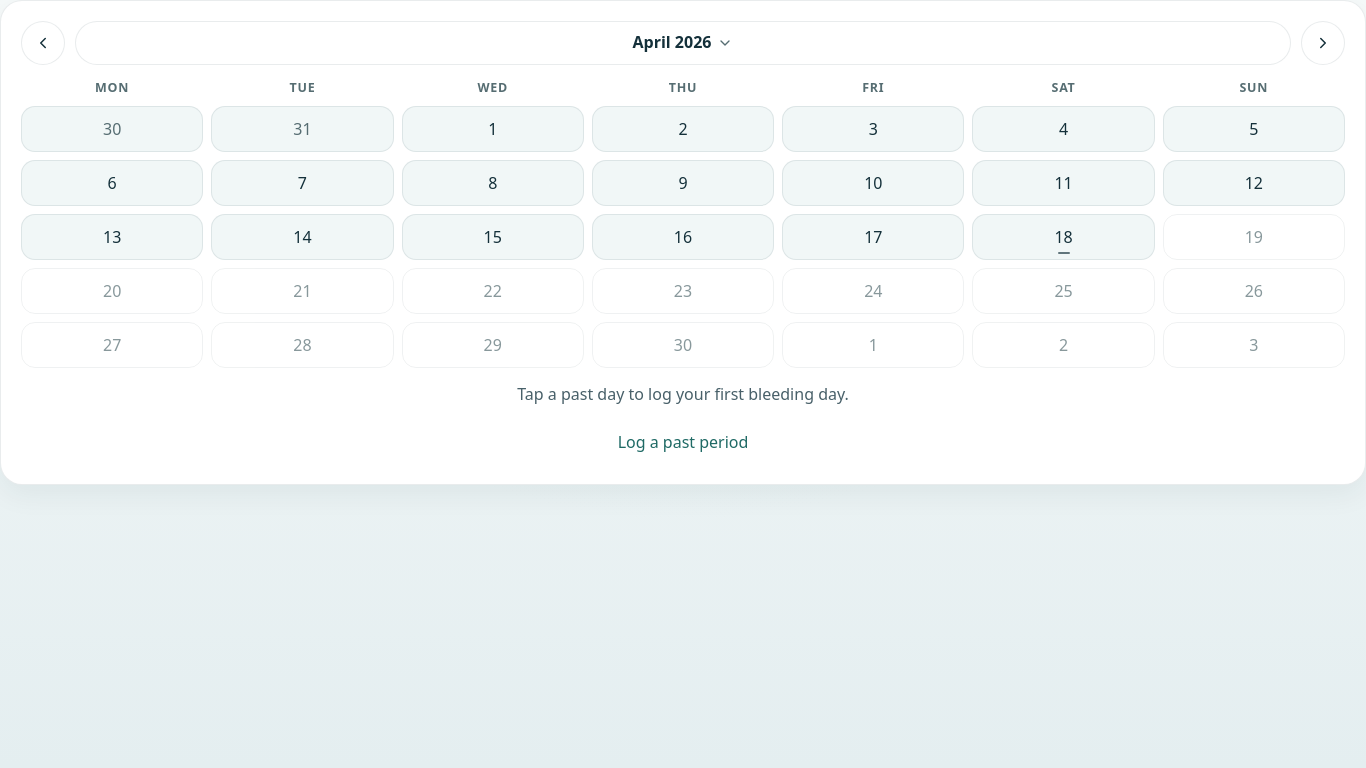
Scenario: CalendarScreen › changes month by swiping the calendar left and right
Press the mouse on the table named "calendar" at [683, 224], box x1=21 y1=79 x2=1345 y2=368
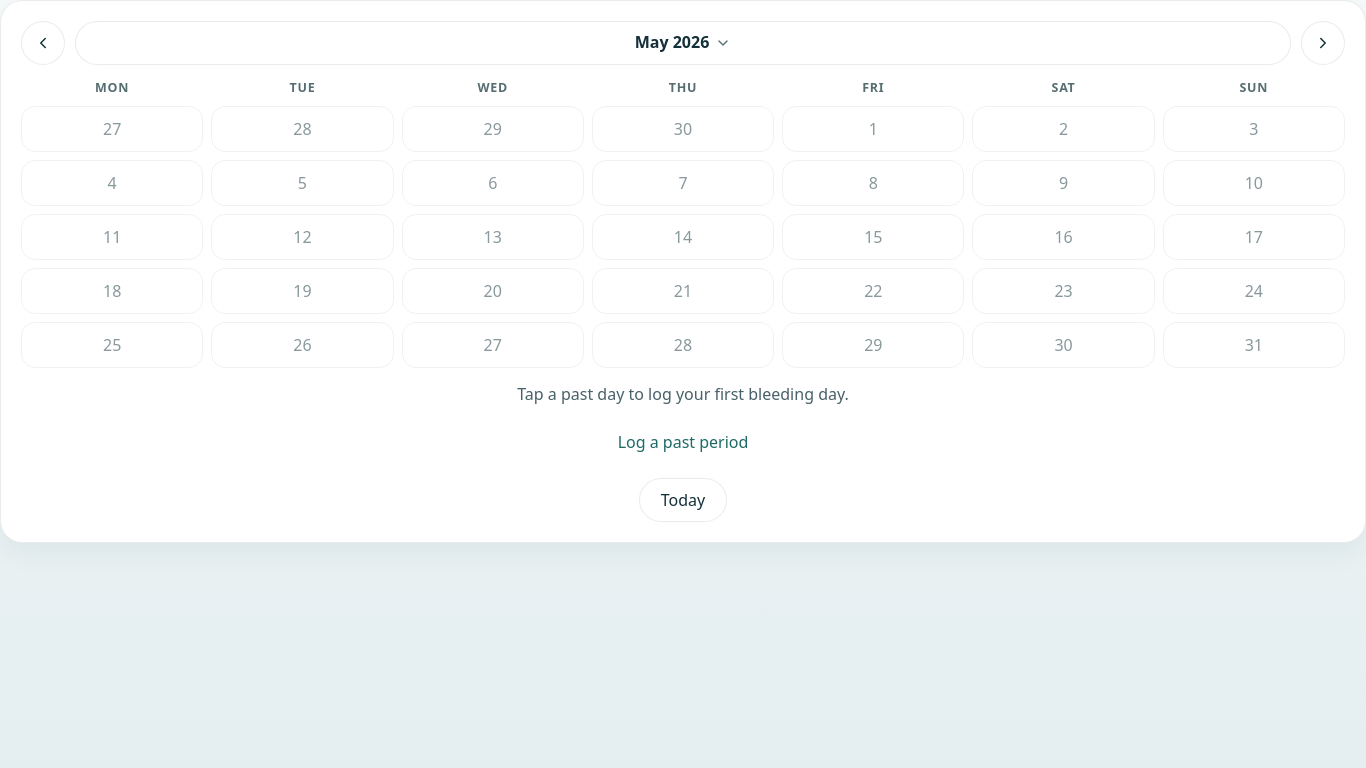
Expected: the button "May 2026" is shown, x1=75 y1=21 x2=1291 y2=65
Press the mouse on the table named "calendar" at [683, 224], box x1=21 y1=79 x2=1345 y2=368
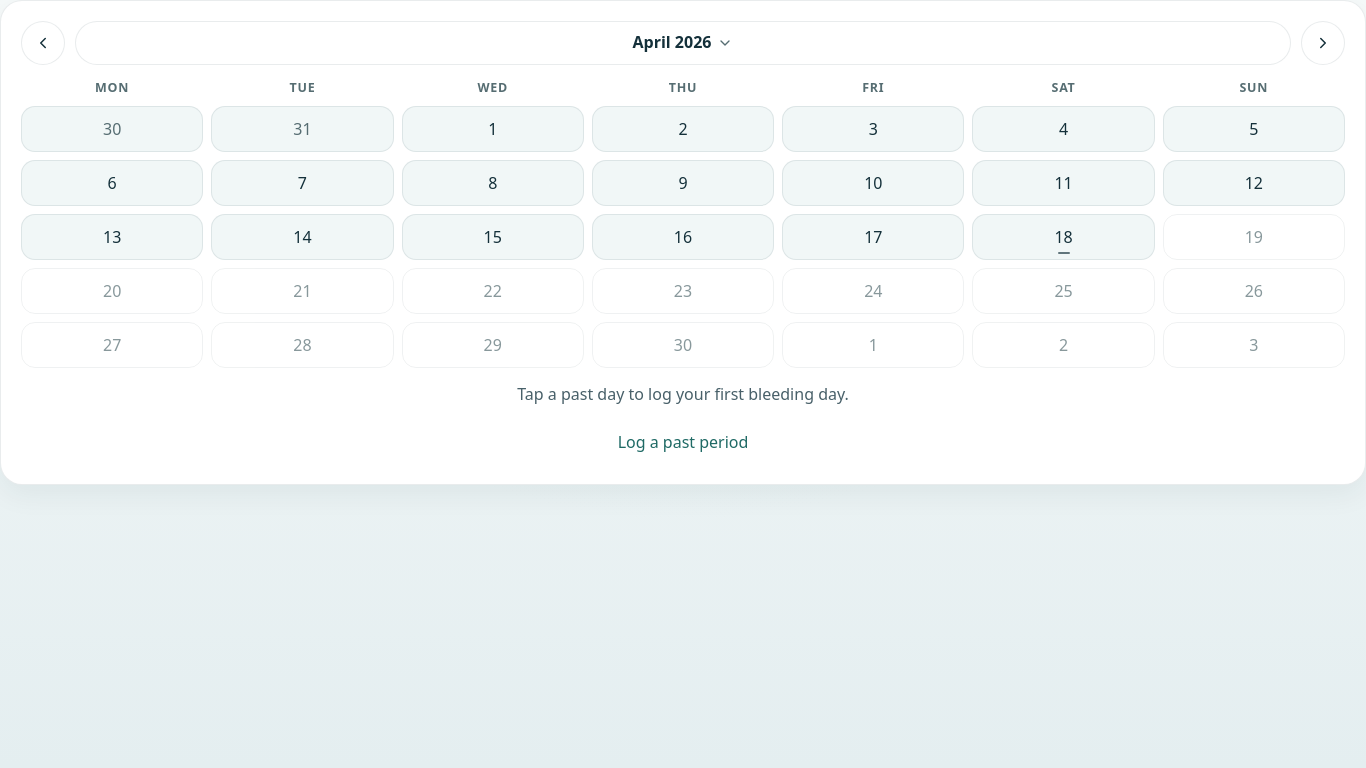
Expected: the button "April 2026" is shown, x1=75 y1=21 x2=1291 y2=65
